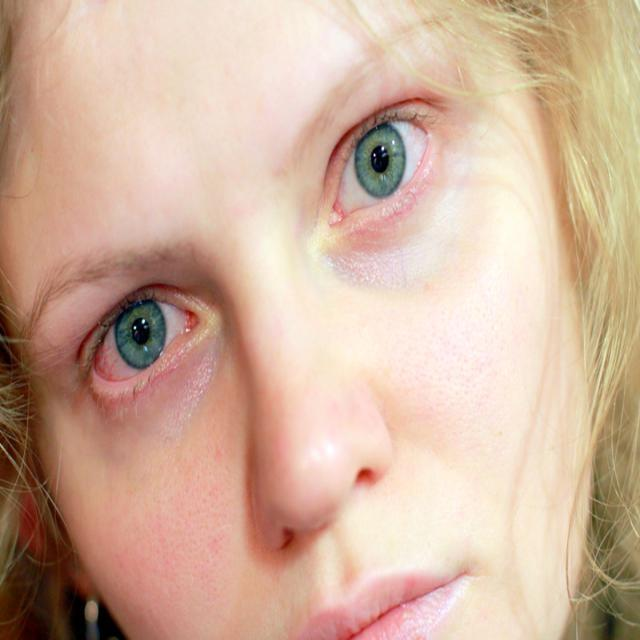Conjunctivitis: (80, 306, 205, 384)
